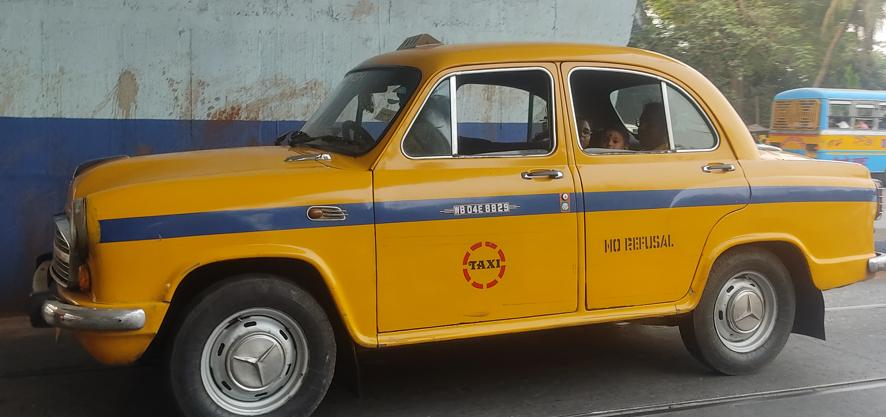Car: (30, 36, 886, 417)
